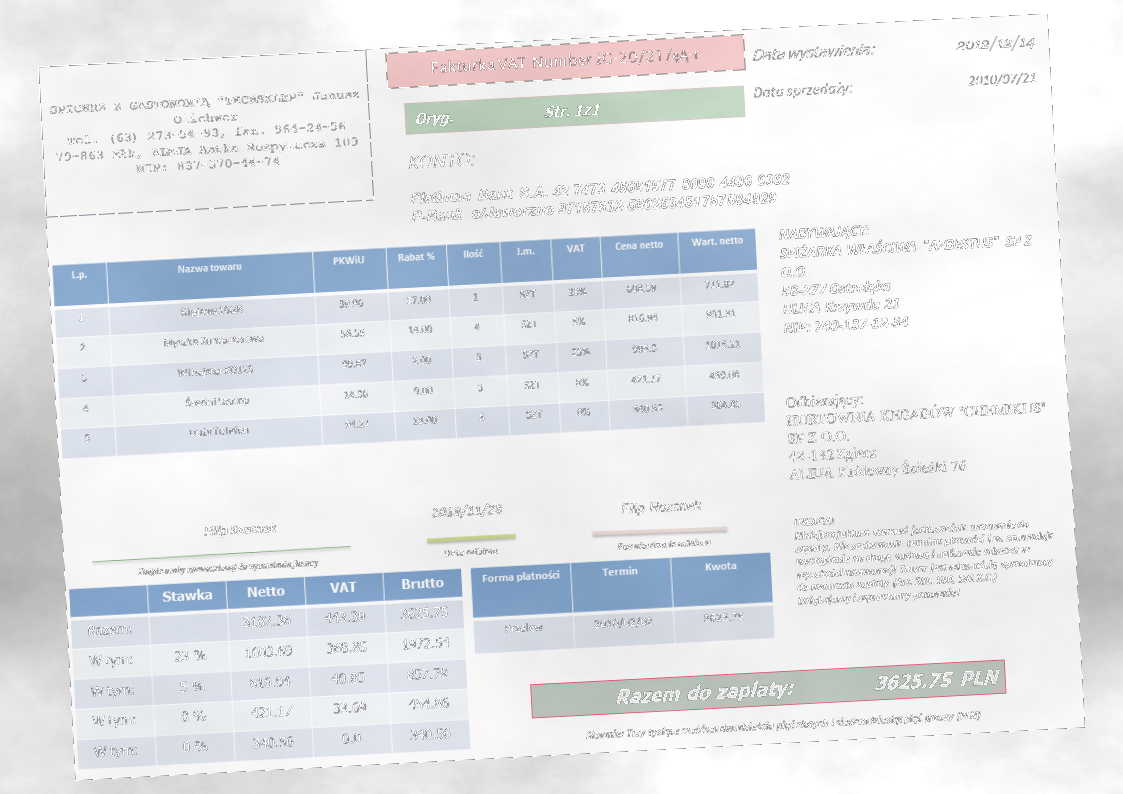Table: (50, 226, 767, 460), (66, 567, 471, 770), (469, 549, 778, 657)
TextBox: (776, 213, 1041, 338), (48, 85, 363, 182), (792, 502, 1059, 608), (783, 382, 1050, 483), (408, 169, 796, 228), (612, 663, 1001, 710), (582, 707, 984, 745), (427, 43, 704, 80), (413, 99, 603, 130), (135, 556, 321, 579), (748, 40, 879, 65), (749, 80, 855, 103), (617, 495, 705, 518), (954, 32, 1037, 56), (615, 536, 714, 554), (964, 67, 1039, 90), (202, 518, 277, 540), (428, 500, 503, 522), (406, 150, 477, 173), (439, 543, 499, 561)
